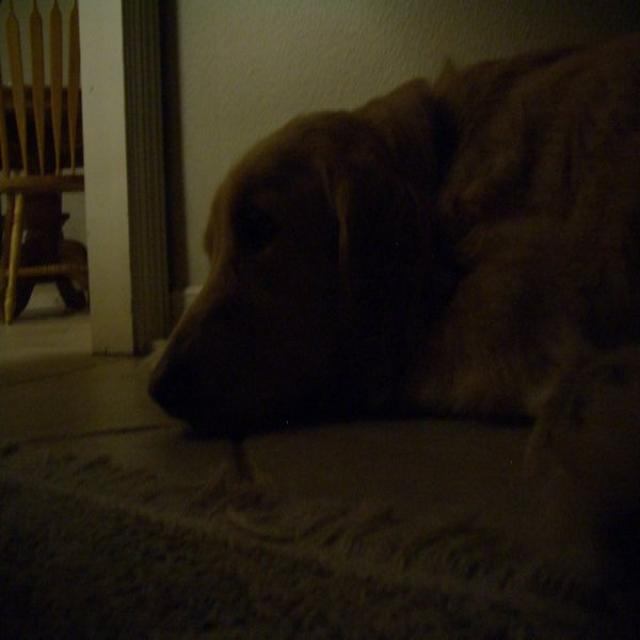Dog: (100, 108, 640, 498)
